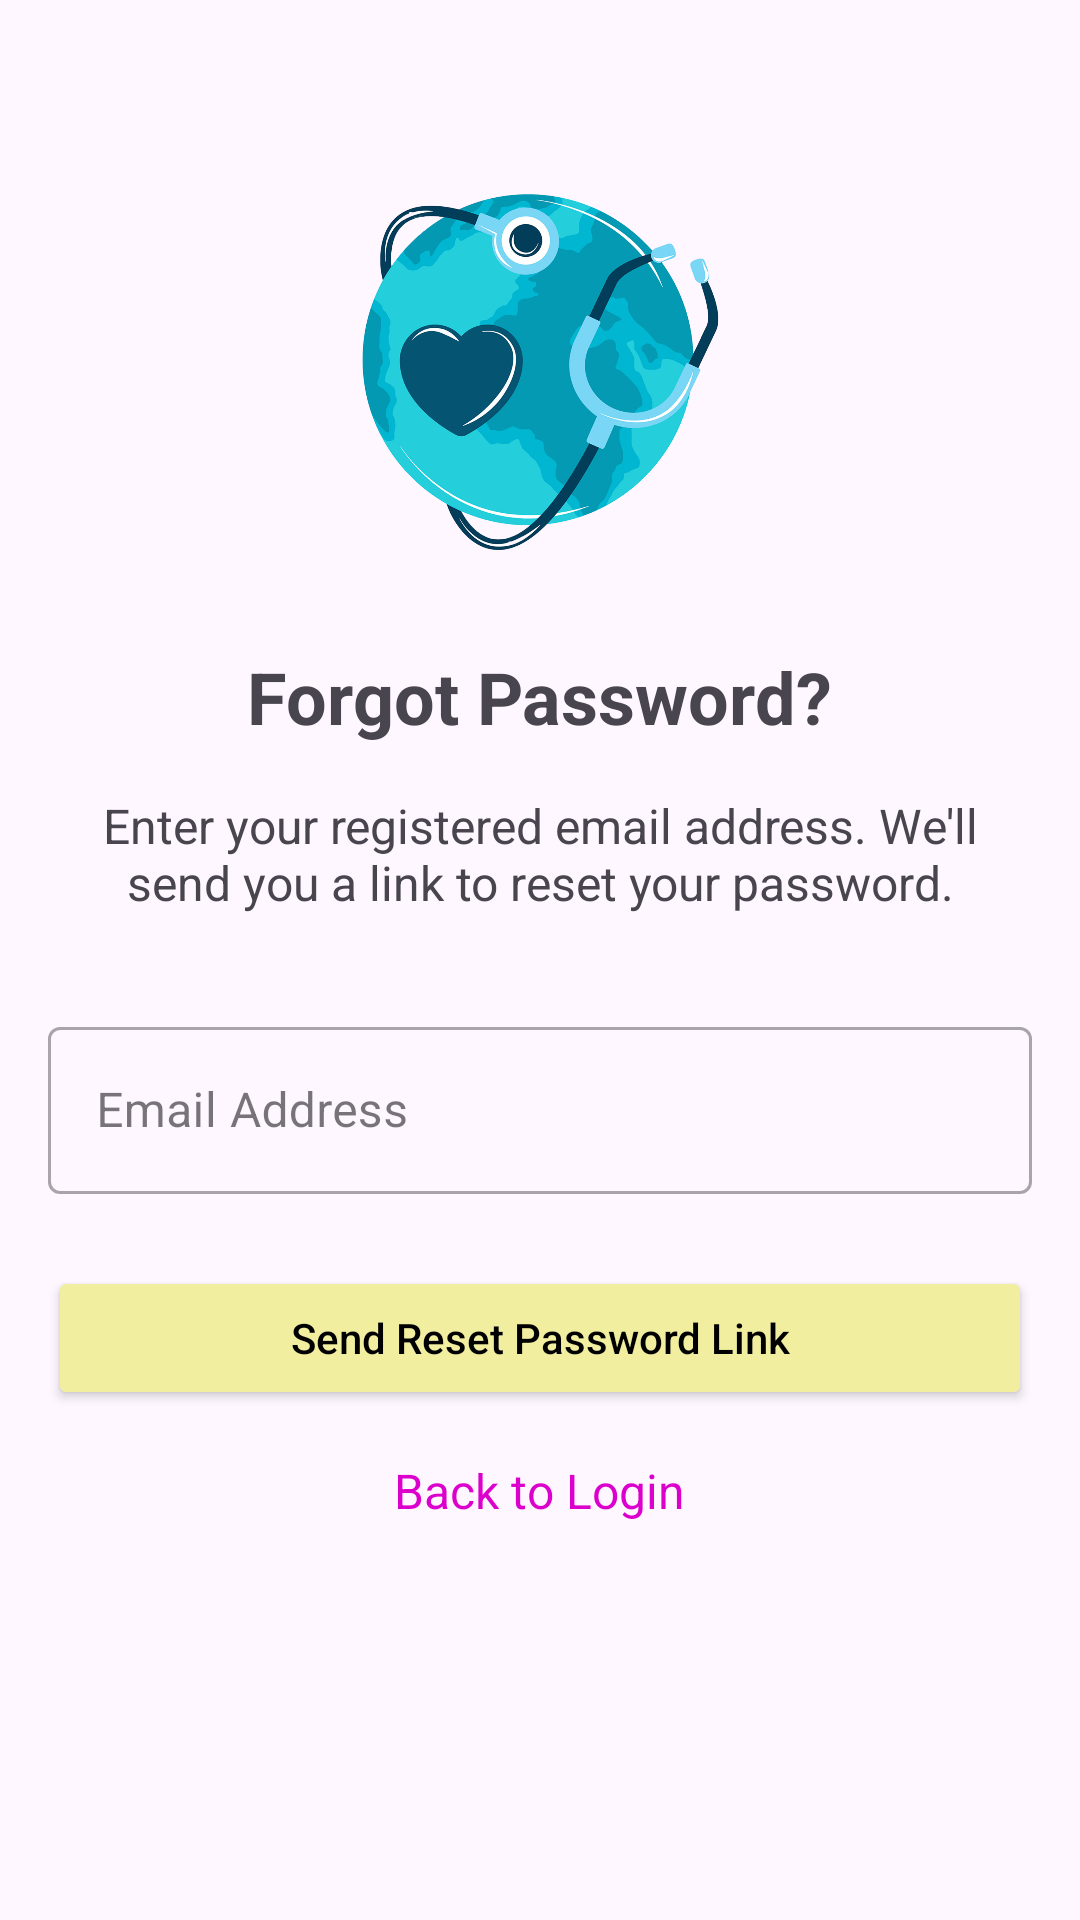

Named icons in this screenshot (1080x1920) and their bounding boxes, [x1,y1,x2,y2]:
medilink: [362,194,718,550]
